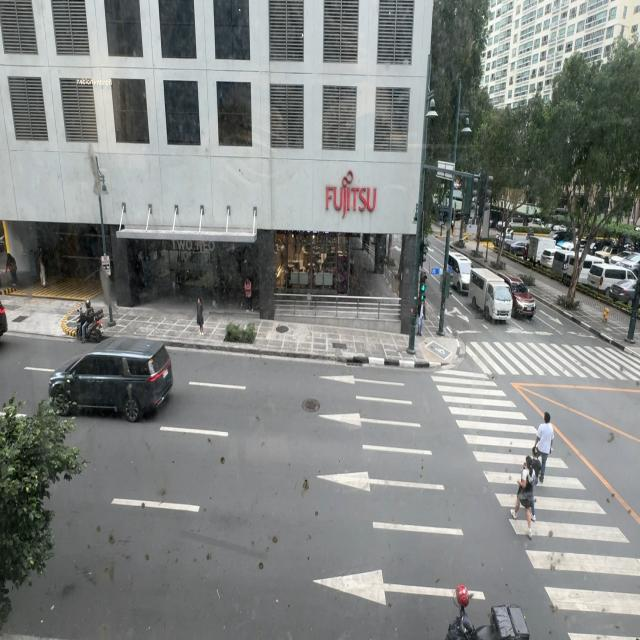crossing: (512, 456, 534, 540), (535, 401, 550, 484), (527, 429, 545, 497)
